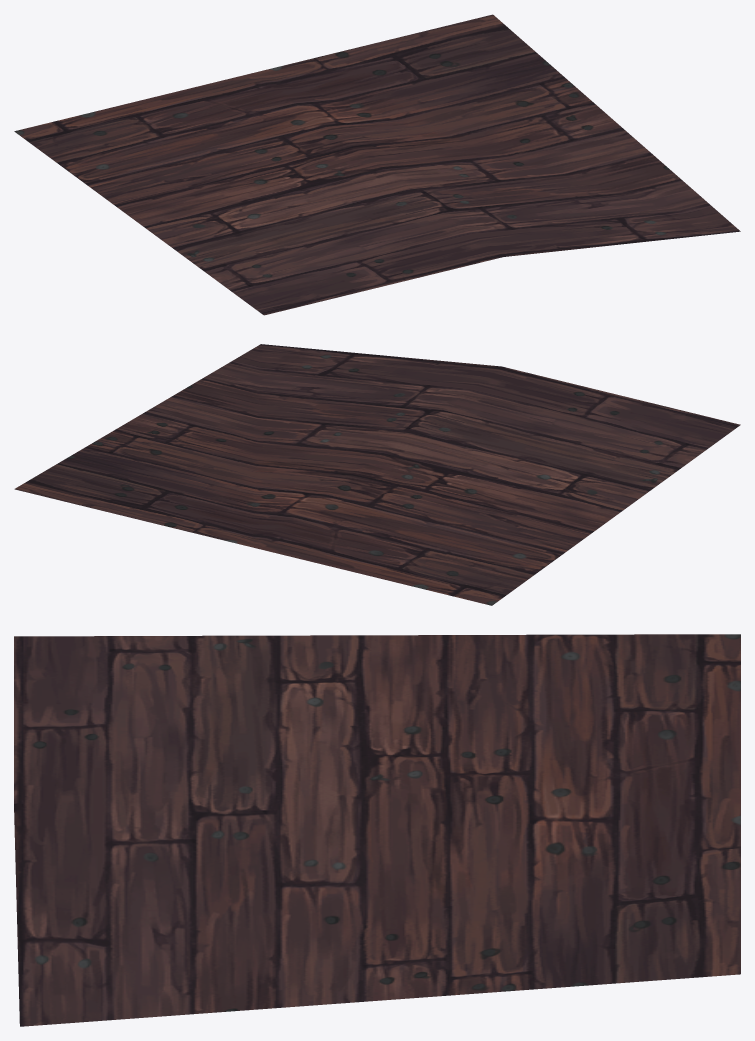
File: satofix1.fbx
The picture shows the model from 3 angles, top to bottom: view 1: azimuth 30°, elevation 25°; view 2: azimuth 150°, elevation 25°; view 3: azimuth 270°, elevation 25°; orthographic projection. The views are drawn at different scales.
Visible parts, largest first — view 1: Plane.007; view 2: Plane.007; view 3: Plane.007.
Part boxes in pixels (x1,y1,x2,y2): Plane.007: (14, 14, 740, 315); Plane.007: (14, 344, 740, 605); Plane.007: (14, 634, 740, 1026).
Size of the model in its own units: 1.33 by 1.2 by 0.0952.
1 material, 1 textured.
